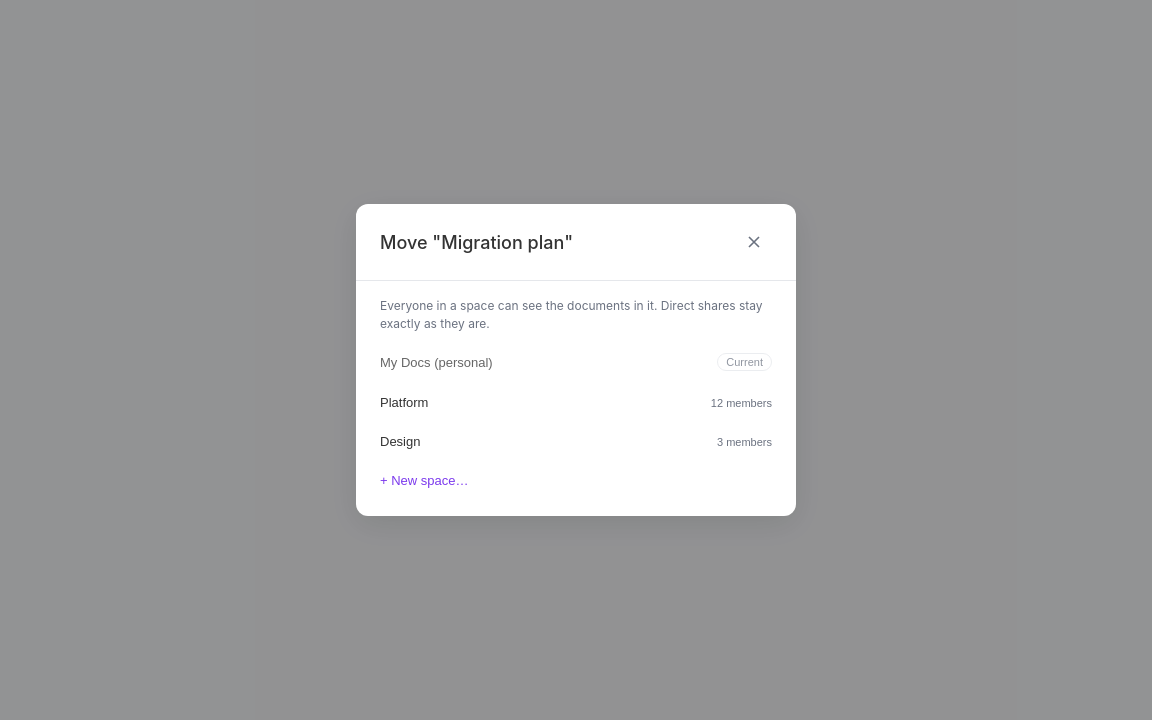
MoveToSpaceDialog › surfaces the server's refusal verbatim, not a generic error
This screenshot has width=1152, height=720.
Click the text "Platform" at coordinates (404, 402), box 380,395 -> 428,410
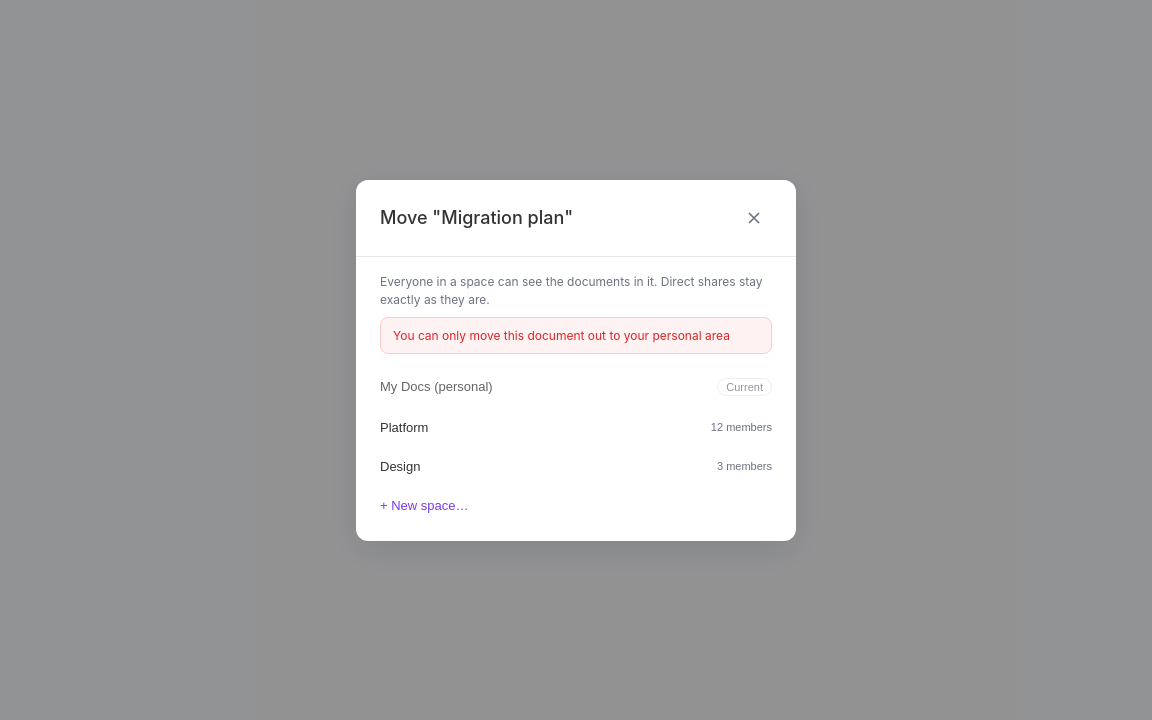
Expected: the text "You can only move this document out to your personal area" is shown, 380,316 -> 772,354
